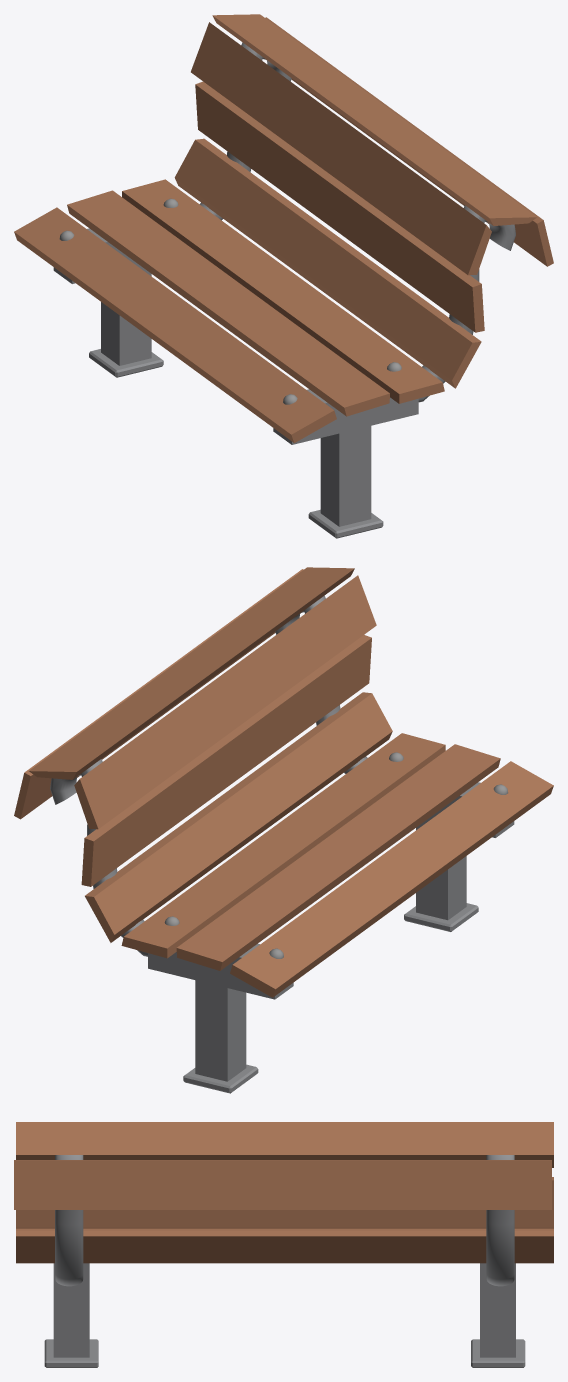
The model's file is Bench.fbx.
3 renders of one model, top to bottom at view 1: azimuth 30°, elevation 25°; view 2: azimuth 150°, elevation 25°; view 3: azimuth 270°, elevation 25°, orthographic. The views are drawn at different scales.
Parts seen in each view (by area): view 1: Wooden plank, Cube, BezierCurve.001; view 2: Wooden plank, Cube, BezierCurve.001; view 3: Wooden plank, Cube, BezierCurve.001.
Part boxes in pixels (box(x1,y1,x2,y2)): Wooden plank: box(14, 14, 553, 442); Cube: box(53, 228, 418, 538); BezierCurve.001: box(199, 42, 515, 402); Wooden plank: box(14, 567, 553, 997); Cube: box(148, 782, 514, 1093); BezierCurve.001: box(50, 596, 367, 956); Wooden plank: box(14, 1122, 553, 1263); Cube: box(44, 1263, 525, 1367); BezierCurve.001: box(55, 1155, 514, 1286).
Bounding box in the file's own units: 81.51 × 88.81 × 150.
